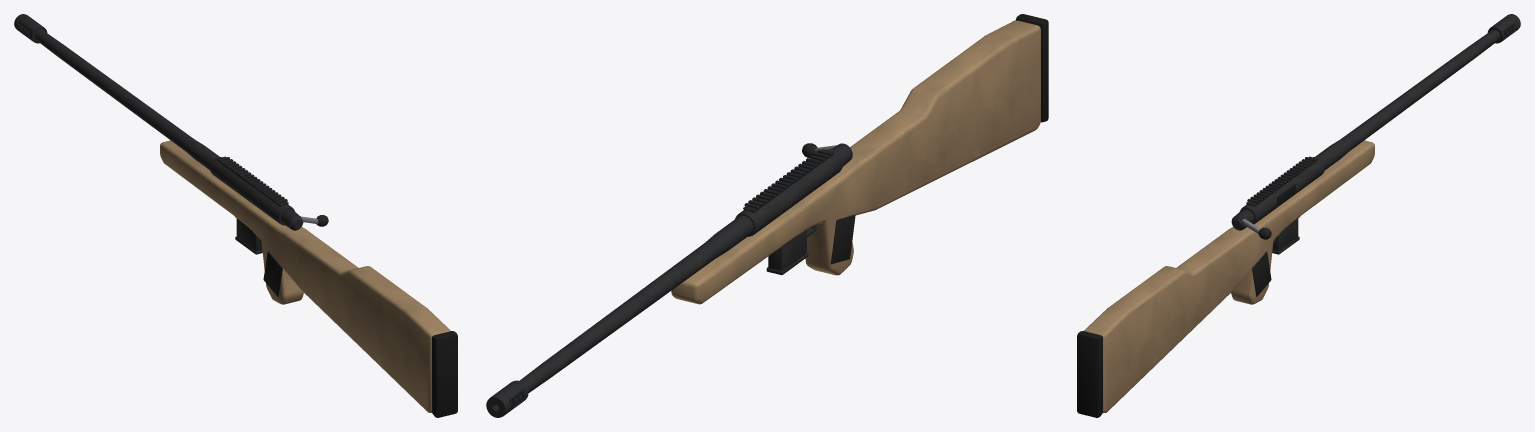
The model's file is Sniper.glb.
3 views of the same model, side by side, from view 1: azimuth 30°, elevation 25°; view 2: azimuth 150°, elevation 25°; view 3: azimuth 330°, elevation 25° (orthographic). The views are drawn at different scales.
Parts seen in each view (by area): view 1: Sniper_Body, Sniper_Magazine; view 2: Sniper_Body, Sniper_Magazine; view 3: Sniper_Body, Sniper_Magazine.
Boxes of the visible parts, box(x1,y1,x2,y2) form: Sniper_Body: box(14, 14, 457, 417); Sniper_Magazine: box(235, 218, 262, 254); Sniper_Body: box(486, 14, 1048, 417); Sniper_Magazine: box(766, 230, 808, 275); Sniper_Body: box(1077, 14, 1520, 417); Sniper_Magazine: box(1272, 218, 1299, 254).
Bounding box in the file's own units: 0.0825 × 0.1769 × 1.41.
9 materials, 8 textured.
